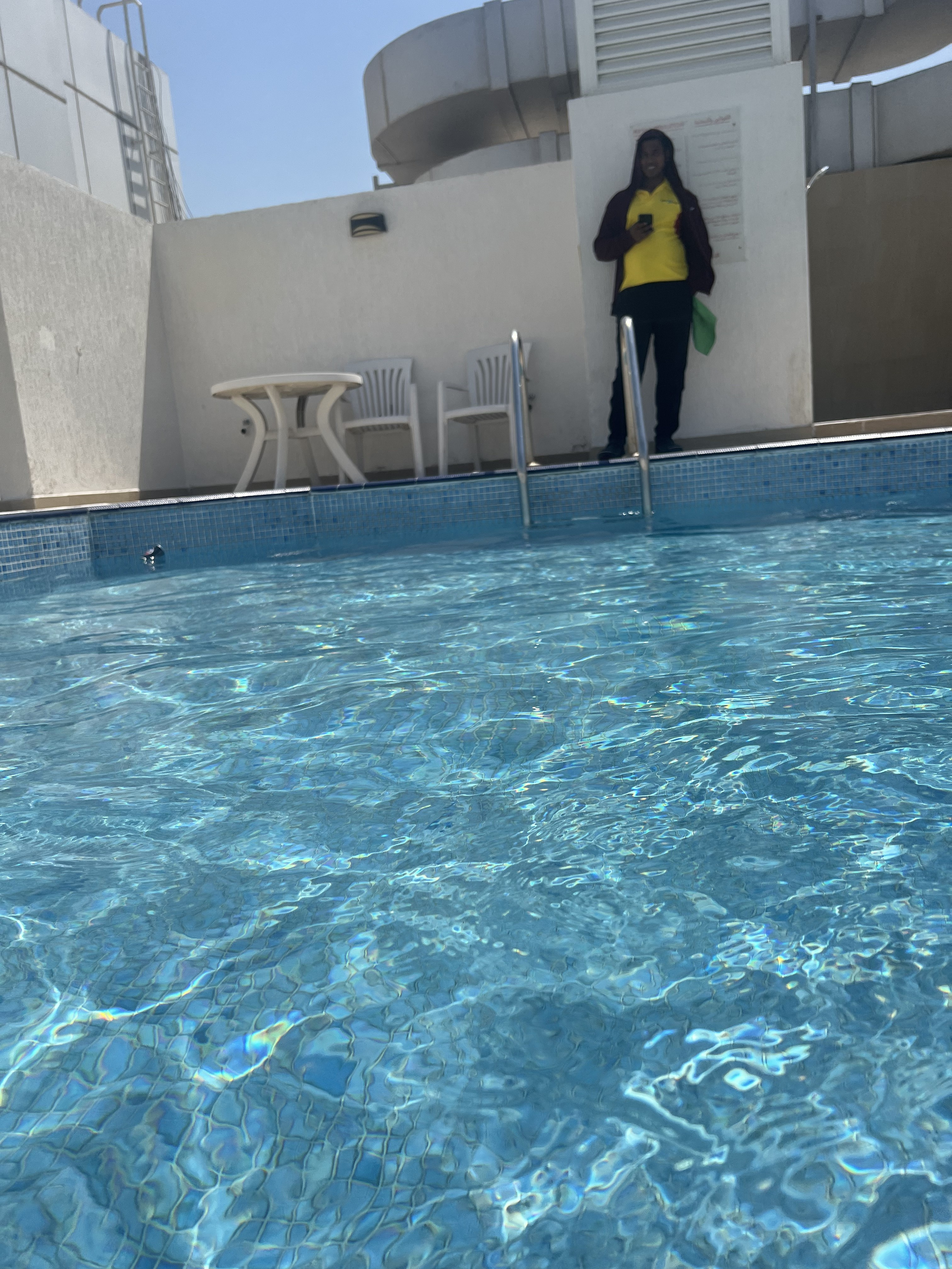debris: (140, 544, 167, 580)
